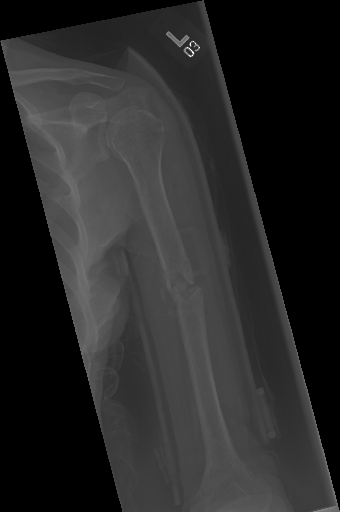fracture: (154, 240, 211, 338)
